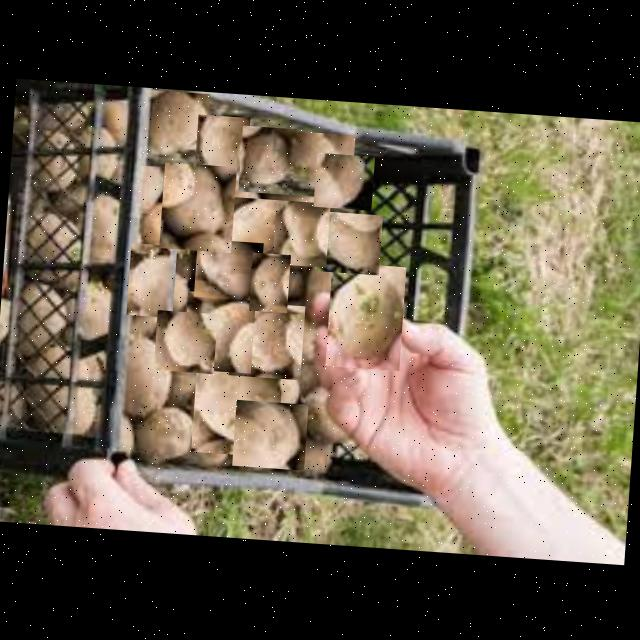Potato: (158, 160, 236, 252), (120, 322, 182, 416), (140, 88, 210, 168), (232, 398, 308, 469), (132, 400, 208, 460), (222, 196, 290, 260), (194, 238, 264, 300), (316, 210, 382, 274), (153, 308, 217, 372), (238, 124, 296, 194), (272, 198, 330, 266), (126, 242, 177, 316), (194, 113, 250, 180), (313, 152, 375, 210), (248, 251, 290, 312)
Sprouted potato: (190, 352, 284, 457), (325, 260, 406, 370), (228, 300, 305, 379), (182, 290, 255, 372), (279, 129, 355, 198), (142, 198, 195, 255)
